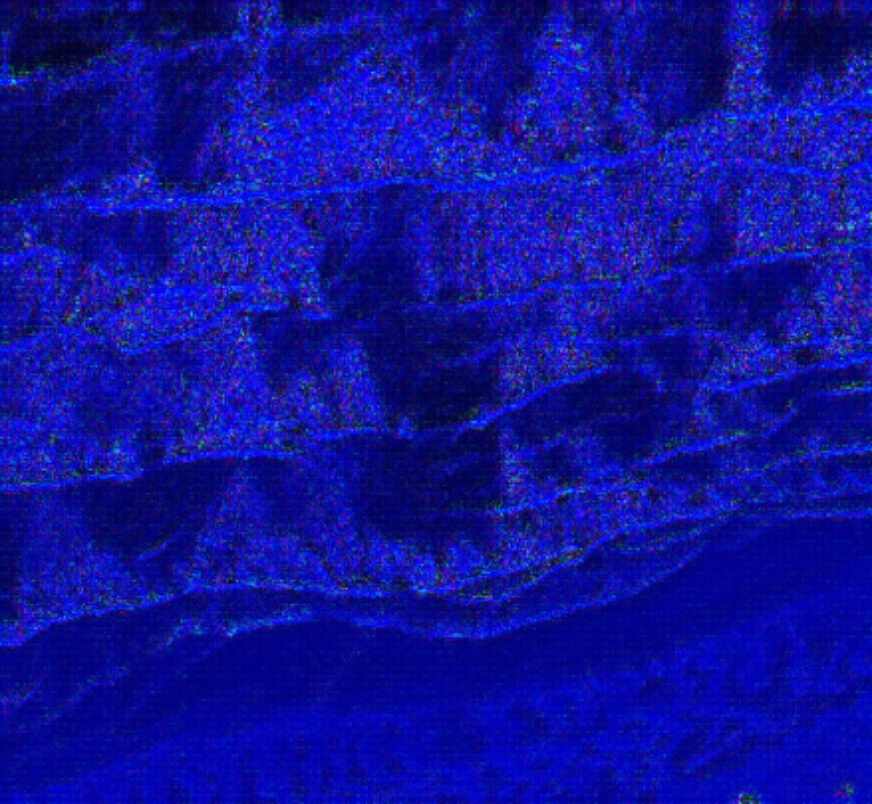rip_current: (252, 111, 573, 586)
